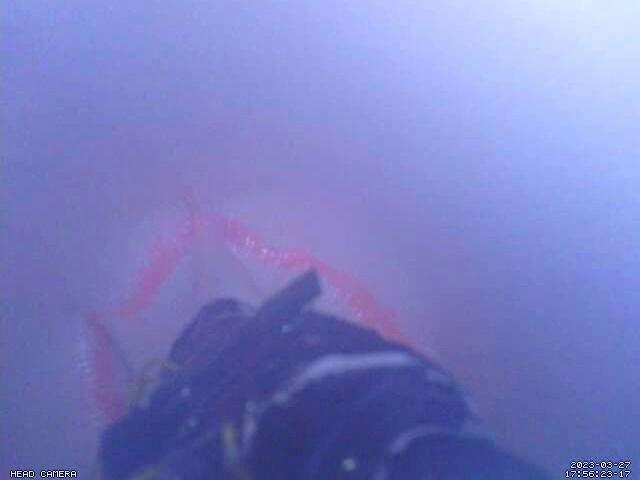head: (82, 213, 433, 428)
